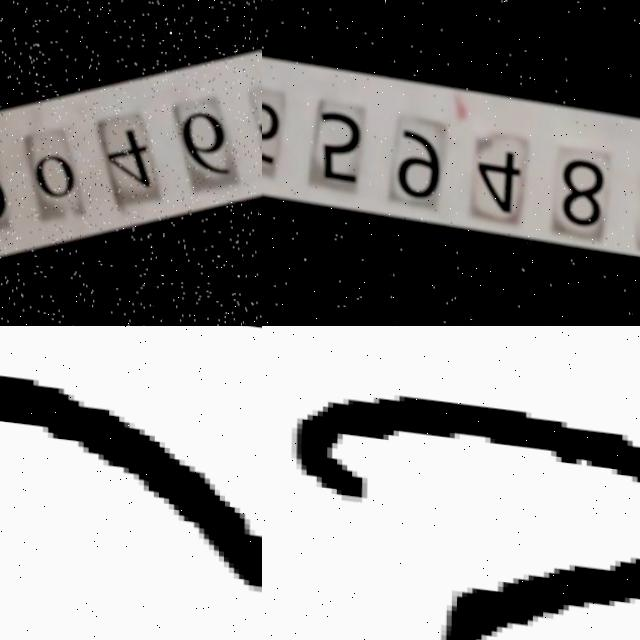0: (12, 125, 86, 226)
4: (87, 107, 164, 209), (464, 123, 524, 218), (239, 70, 262, 177)
5: (304, 92, 364, 188)
6: (160, 83, 244, 194), (262, 83, 281, 171)
8: (546, 136, 606, 229)
9: (385, 110, 444, 202), (0, 138, 16, 243)
C: (0, 365, 262, 568)
S: (284, 386, 640, 640)
